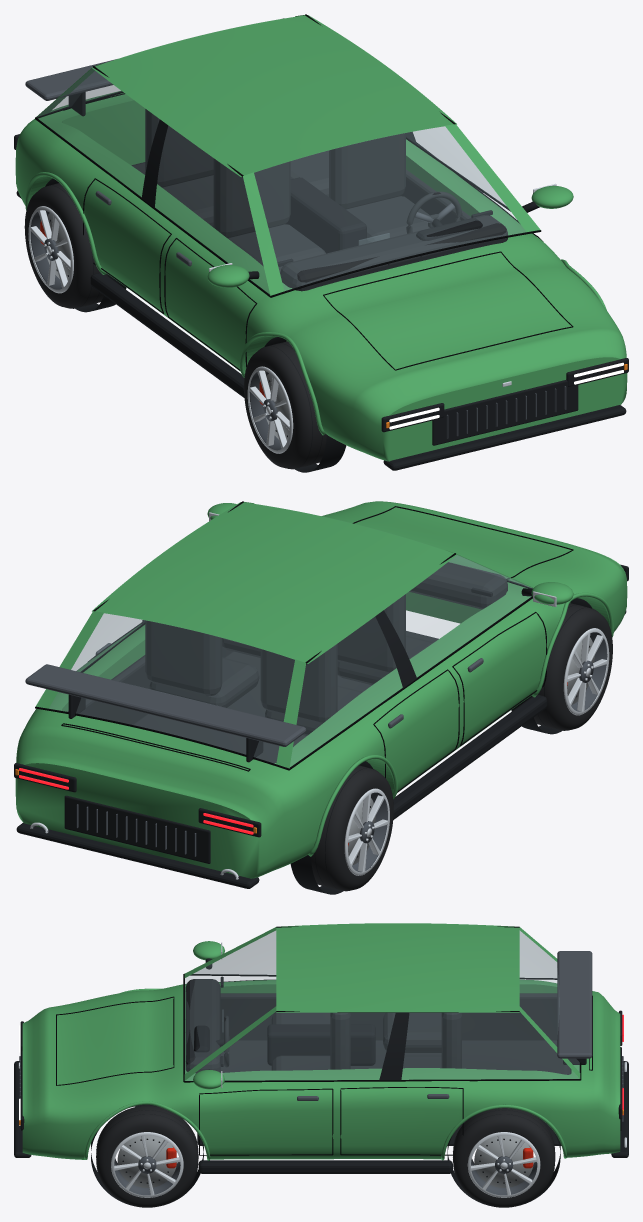
File: club.glb
3 views of the same model, one above another, from view 1: azimuth 30°, elevation 25°; view 2: azimuth 150°, elevation 25°; view 3: azimuth 270°, elevation 25° (orthographic). The views are drawn at different scales.
Visible parts, largest first — view 1: Sculpted body shell.008, Painted roof.008, Windshield.008, Side glass.016, Interior dashboard.008, Interior seat back.023, Tire.034, Front grille housing.008, Interior seat back.022, Tire.032, Interior centre console.008, Rocker aero sill.016 (+30 smaller); view 2: Sculpted body shell.008, Painted roof.008, Side glass.016, Rear glass.008, Rear aero wing.002, Interior seat back.025, Rear diffuser grille.008, Tire.032, Interior seat back.024, Tire.034, Interior cabin floor.008, Rocker aero sill.016 (+27 smaller); view 3: Sculpted body shell.008, Painted roof.008, Side glass.017, Windshield.008, Interior door card.016, Interior cabin floor.008, Tire.035, Tire.033, Rear aero wing.002, Rocker aero sill.017, Interior centre console.008, Rear glass.008 (+30 smaller).
Boxes of the visible parts, x1,y1,x2,y2 form: Sculpted body shell.008: (15, 91, 627, 461); Painted roof.008: (100, 16, 448, 173); Windshield.008: (254, 126, 525, 290); Side glass.016: (37, 69, 269, 293); Interior dashboard.008: (280, 215, 507, 291); Interior seat back.023: (329, 133, 405, 209); Tire.034: (244, 341, 326, 469); Front grille housing.008: (432, 380, 578, 445); Interior seat back.022: (213, 158, 290, 238); Tire.032: (24, 183, 107, 308); Interior centre console.008: (285, 177, 366, 253); Rocker aero sill.016: (90, 272, 244, 397); Sculpted body shell.008: (15, 501, 627, 878); Painted roof.008: (101, 503, 448, 660); Side glass.016: (290, 555, 531, 766); Rear glass.008: (49, 613, 294, 763); Rear aero wing.002: (25, 664, 306, 746); Interior seat back.025: (145, 620, 222, 696); Rear diffuser grille.008: (64, 795, 210, 863); Tire.032: (311, 765, 393, 891); Interior seat back.024: (260, 643, 337, 724); Tire.034: (530, 603, 612, 730); Interior cabin floor.008: (133, 631, 438, 763); Rocker aero sill.016: (393, 694, 547, 819); Sculpted body shell.008: (22, 979, 620, 1159); Painted roof.008: (276, 924, 519, 1011); Side glass.017: (186, 1012, 578, 1080); Windshield.008: (185, 931, 275, 1073); Interior door card.016: (220, 993, 557, 1040); Interior cabin floor.008: (220, 1040, 570, 1074); Tire.035: (96, 1105, 198, 1207); Tire.033: (453, 1108, 555, 1207); Rear aero wing.002: (557, 951, 592, 1058); Rocker aero sill.017: (198, 1160, 452, 1173); Interior centre console.008: (267, 1024, 375, 1065); Rear glass.008: (520, 931, 579, 1071).
Bounding box in the file's own units: 2.32 × 1.43 × 4.2.
